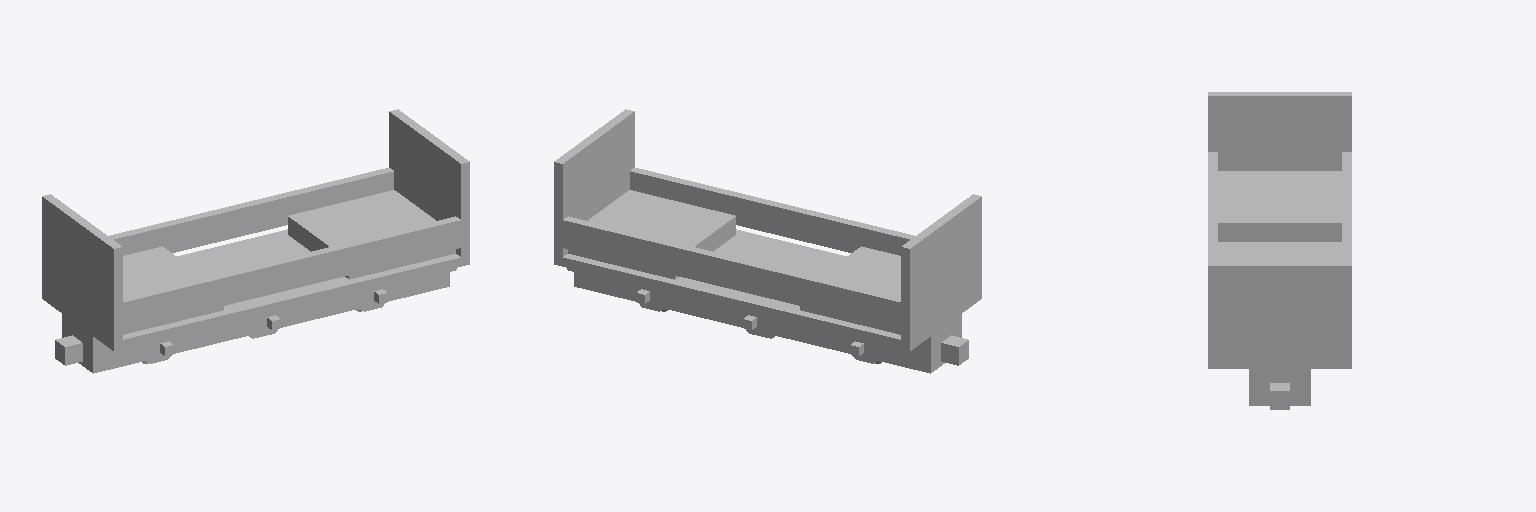
3 renders of one model, left to right at view 1: azimuth 30°, elevation 25°; view 2: azimuth 150°, elevation 25°; view 3: azimuth 270°, elevation 25°, orthographic.
Visible parts, largest first — view 1: FRAME.001, FRAME.002, FRAME, SEAT_2, SEAT_1, FRAME.couple; view 2: FRAME.001, FRAME.002, FRAME, SEAT_2, SEAT_1, FRAME.couple; view 3: FRAME.001, SEAT_1, FRAME.002, FRAME, FRAME.couple.001.
Part boxes in pixels (left/top/right/bottom): FRAME.001: left=42, top=109, right=469, bottom=350; FRAME.002: left=109, top=168, right=460, bottom=329; FRAME: left=62, top=270, right=449, bottom=373; SEAT_2: left=288, top=190, right=455, bottom=279; SEAT_1: left=123, top=246, right=223, bottom=334; FRAME.couple: left=55, top=335, right=82, bottom=365; FRAME.001: left=554, top=109, right=981, bottom=350; FRAME.002: left=563, top=168, right=914, bottom=329; FRAME: left=574, top=270, right=961, bottom=373; SEAT_2: left=568, top=190, right=735, bottom=279; SEAT_1: left=800, top=246, right=900, bottom=334; FRAME.couple: left=941, top=335, right=968, bottom=365; FRAME.001: left=1208, top=92, right=1351, bottom=368; SEAT_1: left=1218, top=171, right=1341, bottom=241; FRAME.002: left=1208, top=152, right=1351, bottom=261; FRAME: left=1249, top=369, right=1310, bottom=405; FRAME.couple.001: left=1270, top=383, right=1289, bottom=409.
Size of the model in its own units: 2.75 by 1.03 by 0.875.